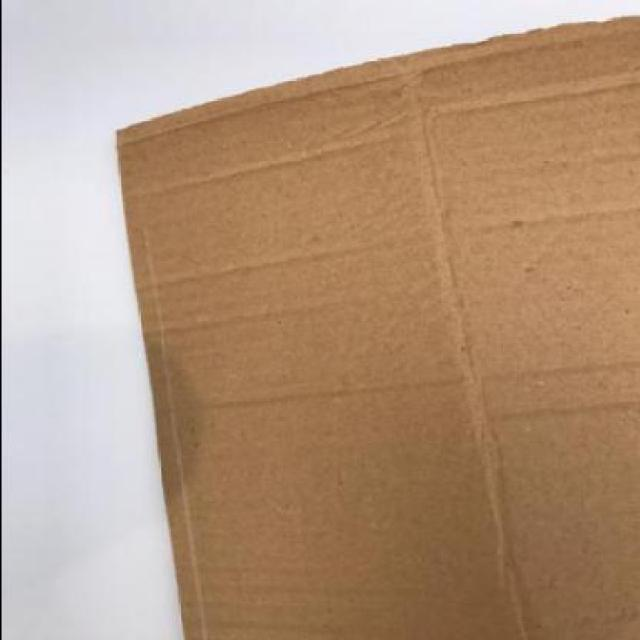CARDBOARD: (117, 17, 640, 640)
